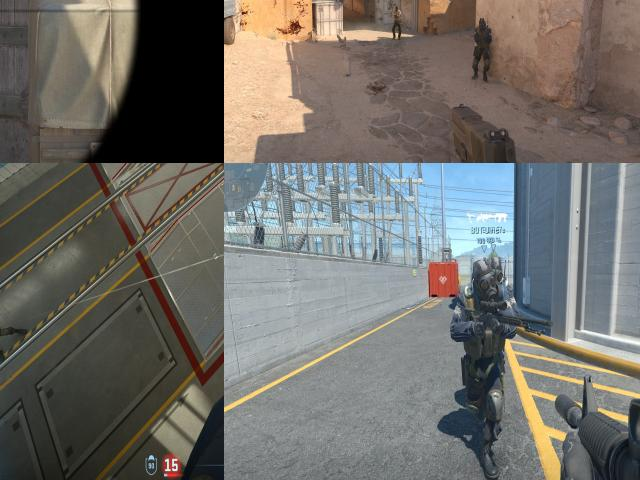CT: (462, 264, 496, 466), (490, 255, 512, 424), (475, 19, 492, 81), (0, 324, 16, 357)
CT-Head: (470, 260, 492, 300), (490, 258, 503, 286), (480, 19, 486, 28)
T: (394, 6, 402, 37)
T-Head: (396, 6, 398, 10)
